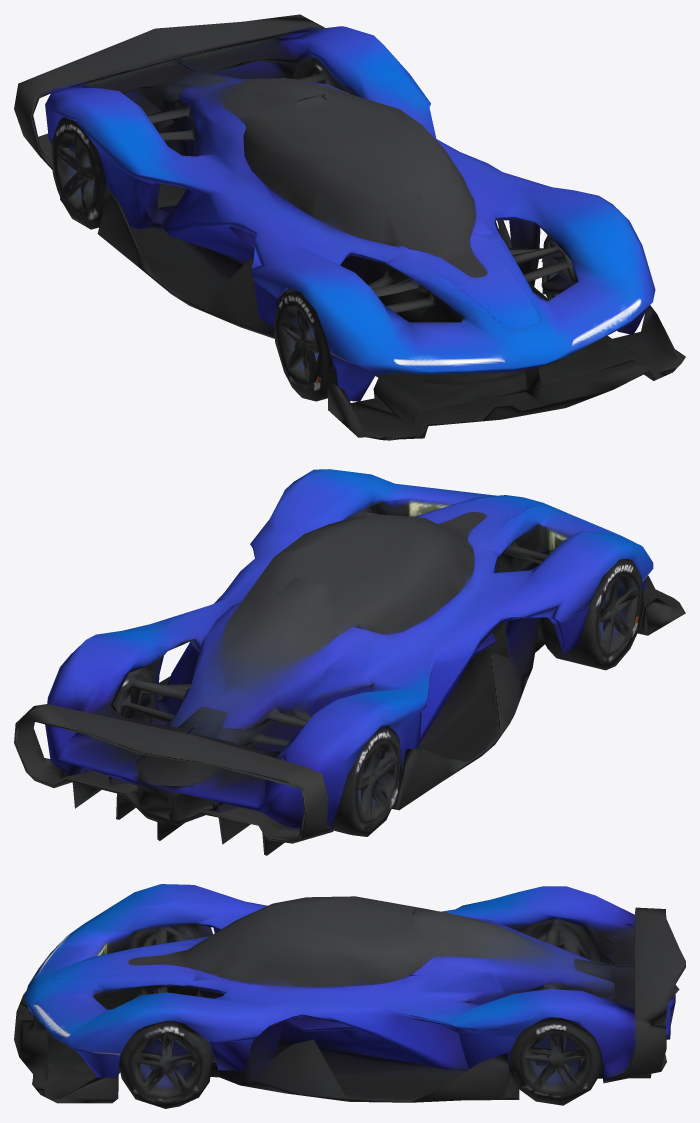
Rendered from Red Bull RB17.glb.
3 views of the same model, one above another, from view 1: azimuth 30°, elevation 25°; view 2: azimuth 150°, elevation 25°; view 3: azimuth 270°, elevation 25° (orthographic). The views are drawn at different scales.
Visible parts, largest first — view 1: tripo_node_e840e8e1-7125-4243-b11b-2ea5ff7b593a; view 2: tripo_node_e840e8e1-7125-4243-b11b-2ea5ff7b593a; view 3: tripo_node_e840e8e1-7125-4243-b11b-2ea5ff7b593a.
Part boxes in pixels (x1,y1,x2,y2): tripo_node_e840e8e1-7125-4243-b11b-2ea5ff7b593a: (14,14,685,440); tripo_node_e840e8e1-7125-4243-b11b-2ea5ff7b593a: (14,469,685,855); tripo_node_e840e8e1-7125-4243-b11b-2ea5ff7b593a: (14,884,685,1108).
Size of the model in its own units: 0.4622 by 0.21 by 0.9809.
Materials: 1 (1 with a texture image).
